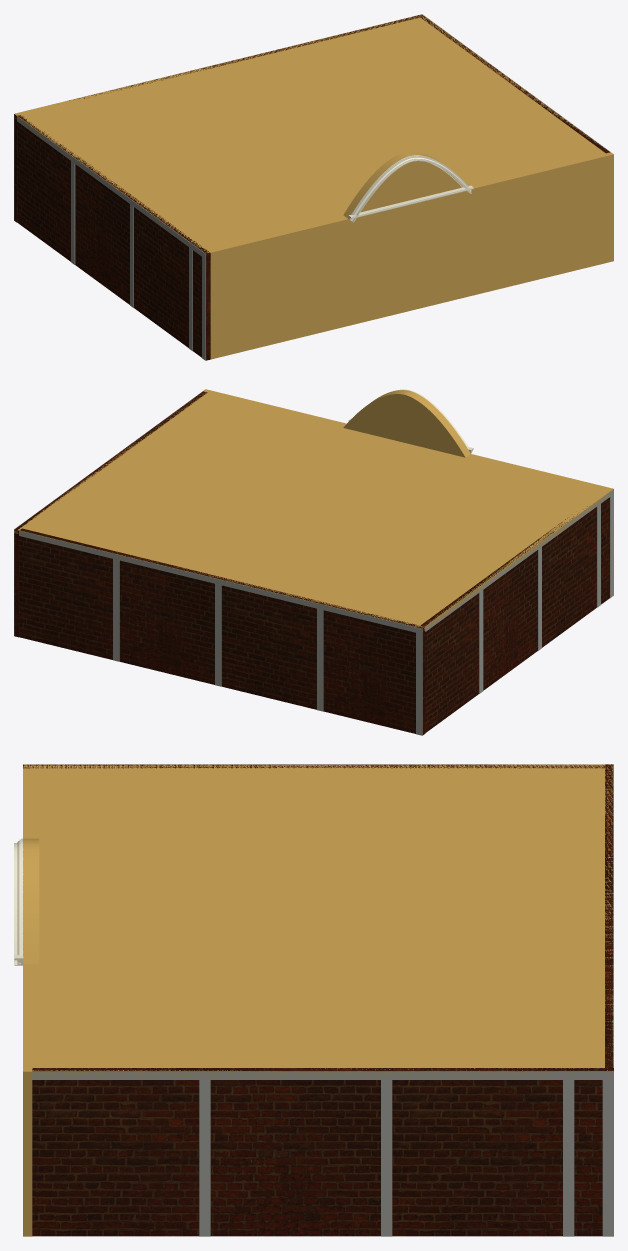
The model's file is building.glb.
The picture shows the model from 3 angles, top to bottom: view 1: azimuth 30°, elevation 25°; view 2: azimuth 150°, elevation 25°; view 3: azimuth 270°, elevation 25°; orthographic projection. The views are drawn at different scales.
Visible parts, largest first — view 1: roof/house:0/roof_slab#0001, house:0/edge0/z0/house:0/edge0/z0/wall_0_0, house:0/edge3/z0/house:0/edge3/z0/wall_0_0, crown/coronamiento/crown_body#0001, house:0/edge2/z0/house:0/edge2/z0/wall_0_0, house:0/edge3/z0/house:0/edge3/z0/beam_0_0, crown/coronamiento/crown_moulding#0001, house:0/edge1/z0/house:0/edge1/z0/wall_0_0, crown/coronamiento/crown_base_cornice#0001, house:0/edge3/z0/house:0/edge3/z0/column_2_0; view 2: roof/house:0/roof_slab#0001, house:0/edge2/z0/house:0/edge2/z0/wall_0_0, house:0/edge3/z0/house:0/edge3/z0/wall_0_0, crown/coronamiento/crown_body#0001, house:0/edge2/z0/house:0/edge2/z0/beam_0_0, house:0/edge1/z0/house:0/edge1/z0/wall_0_0, house:0/edge3/z0/house:0/edge3/z0/beam_0_0, house:0/edge2/z0/house:0/edge2/z0/column_4_0, house:0/edge2/z0/house:0/edge2/z0/column_2_0, house:0/edge2/z0/house:0/edge2/z0/column_1_0, house:0/edge2/z0/house:0/edge2/z0/column_3_0, house:0/edge0/z0/house:0/edge0/z0/wall_0_0 (+1 smaller); view 3: roof/house:0/roof_slab#0001, house:0/edge1/z0/house:0/edge1/z0/wall_0_0, house:0/edge1/z0/house:0/edge1/z0/beam_0_0, house:0/edge0/z0/house:0/edge0/z0/wall_0_0, house:0/edge2/z0/house:0/edge2/z0/wall_0_0, house:0/edge3/z0/house:0/edge3/z0/wall_0_0, crown/coronamiento/crown_body#0001, house:0/edge1/z0/house:0/edge1/z0/column_1_0, house:0/edge1/z0/house:0/edge1/z0/column_2_0, house:0/edge1/z0/house:0/edge1/z0/column_3_0, house:0/edge1/z0/house:0/edge1/z0/column_4_0, crown/coronamiento/crown_moulding#0001.
Boxes of the visible parts, x1,y1,x2,y2 form: roof/house:0/roof_slab#0001: [14, 14, 613, 254]; house:0/edge0/z0/house:0/edge0/z0/wall_0_0: [208, 152, 613, 359]; house:0/edge3/z0/house:0/edge3/z0/wall_0_0: [17, 115, 210, 360]; crown/coronamiento/crown_body#0001: [343, 151, 463, 218]; house:0/edge2/z0/house:0/edge2/z0/wall_0_0: [14, 15, 419, 222]; house:0/edge3/z0/house:0/edge3/z0/beam_0_0: [17, 116, 205, 259]; crown/coronamiento/crown_moulding#0001: [349, 155, 471, 222]; house:0/edge1/z0/house:0/edge1/z0/wall_0_0: [418, 14, 609, 153]; crown/coronamiento/crown_base_cornice#0001: [348, 185, 473, 219]; house:0/edge3/z0/house:0/edge3/z0/column_2_0: [71, 161, 75, 264]; roof/house:0/roof_slab#0001: [14, 389, 613, 630]; house:0/edge2/z0/house:0/edge2/z0/wall_0_0: [19, 528, 425, 735]; house:0/edge3/z0/house:0/edge3/z0/wall_0_0: [420, 497, 609, 732]; crown/coronamiento/crown_body#0001: [343, 390, 469, 457]; house:0/edge2/z0/house:0/edge2/z0/beam_0_0: [19, 530, 422, 634]; house:0/edge1/z0/house:0/edge1/z0/wall_0_0: [14, 391, 207, 637]; house:0/edge3/z0/house:0/edge3/z0/beam_0_0: [425, 489, 613, 631]; house:0/edge2/z0/house:0/edge2/z0/column_4_0: [317, 608, 323, 711]; house:0/edge2/z0/house:0/edge2/z0/column_2_0: [113, 559, 119, 661]; house:0/edge2/z0/house:0/edge2/z0/column_1_0: [416, 633, 422, 735]; house:0/edge2/z0/house:0/edge2/z0/column_3_0: [215, 584, 221, 686]; house:0/edge0/z0/house:0/edge0/z0/wall_0_0: [203, 389, 539, 471]; roof/house:0/roof_slab#0001: [23, 764, 613, 1077]; house:0/edge1/z0/house:0/edge1/z0/wall_0_0: [32, 1068, 613, 1236]; house:0/edge1/z0/house:0/edge1/z0/beam_0_0: [32, 1071, 613, 1079]; house:0/edge0/z0/house:0/edge0/z0/wall_0_0: [23, 768, 32, 1236]; house:0/edge2/z0/house:0/edge2/z0/wall_0_0: [605, 764, 613, 1067]; house:0/edge3/z0/house:0/edge3/z0/wall_0_0: [23, 764, 604, 768]; crown/coronamiento/crown_body#0001: [25, 838, 39, 964]; house:0/edge1/z0/house:0/edge1/z0/column_1_0: [602, 1080, 613, 1236]; house:0/edge1/z0/house:0/edge1/z0/column_2_0: [199, 1080, 210, 1236]; house:0/edge1/z0/house:0/edge1/z0/column_3_0: [381, 1080, 392, 1236]; house:0/edge1/z0/house:0/edge1/z0/column_4_0: [563, 1080, 574, 1236]; crown/coronamiento/crown_moulding#0001: [14, 838, 23, 965].
Size of the model in its own units: 16 by 5.8 by 13.2.
4 materials, 1 textured.
